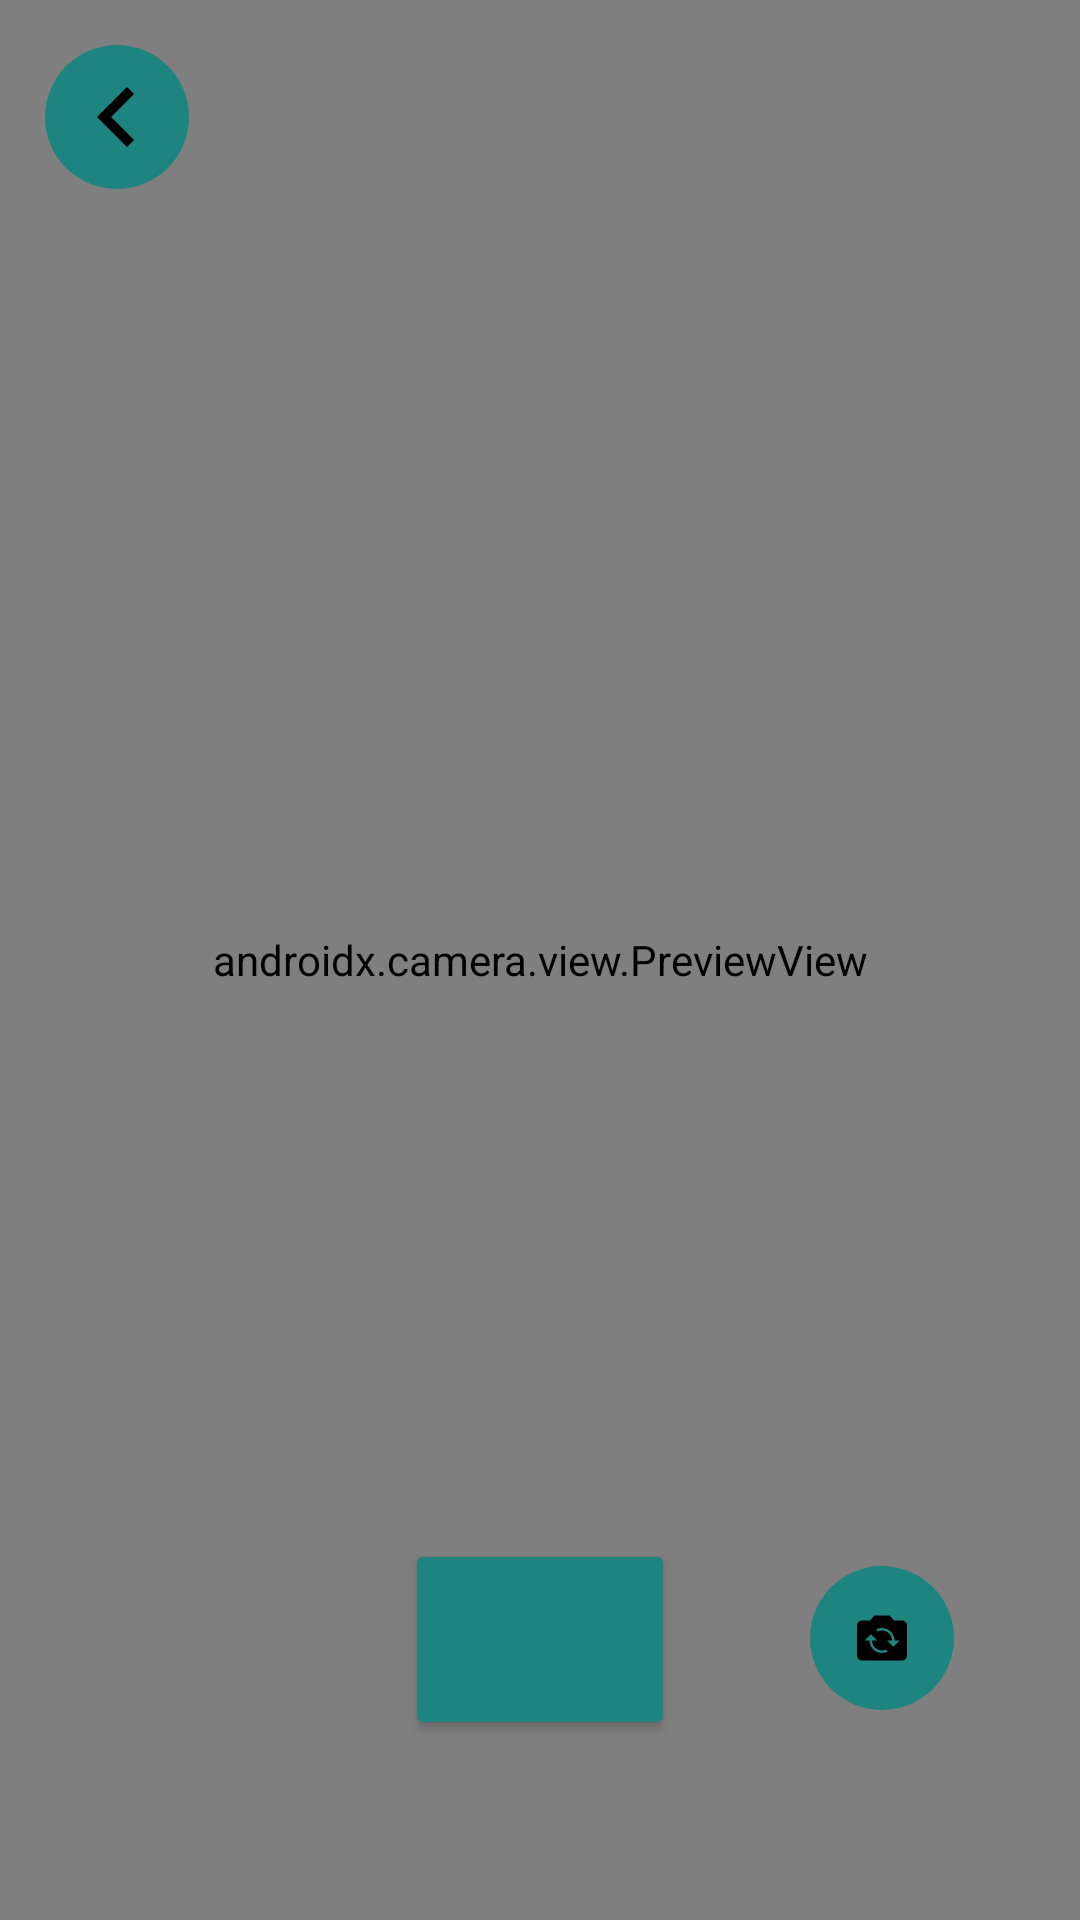

Icon click points for this 1080×1920 phone screenshot, format [x,y]:
flip camera: [882,1638]
keyboard arrow left: [117,117]
